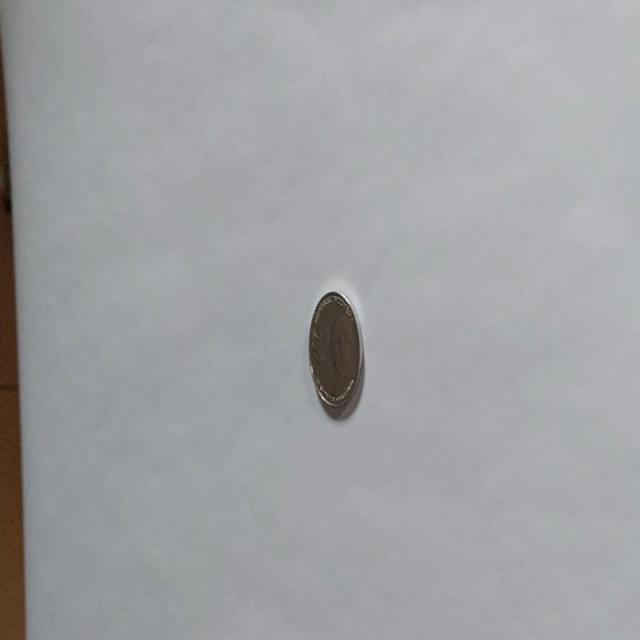lima ratus rupiah: (306, 288, 364, 418)
